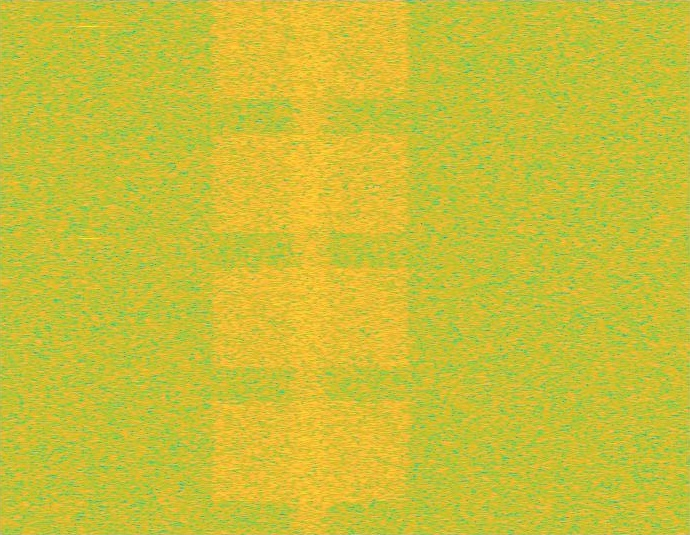5G: (207, 0, 414, 534)
DSSS: (287, 0, 334, 534)
Radar: (82, 0, 96, 534)
